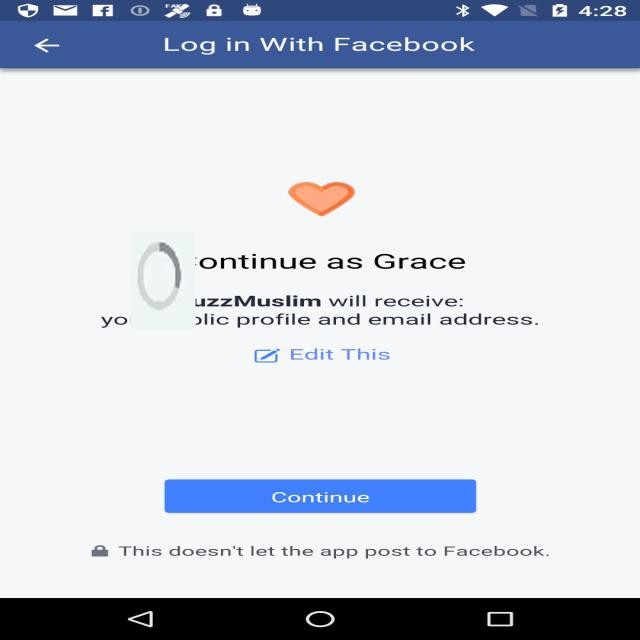misdirection: (130, 231, 196, 331)
